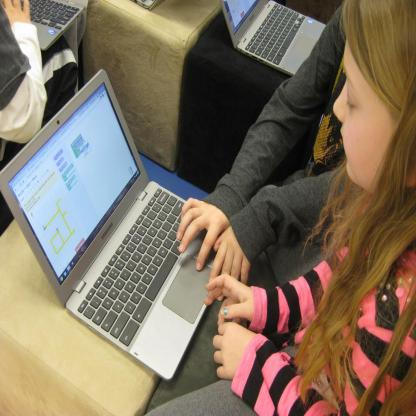board: (0, 70, 222, 382), (219, 0, 326, 77), (7, 0, 85, 51)
